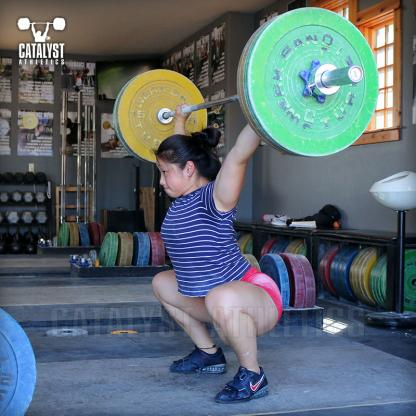barbell: (248, 8, 380, 159), (119, 69, 210, 166)
